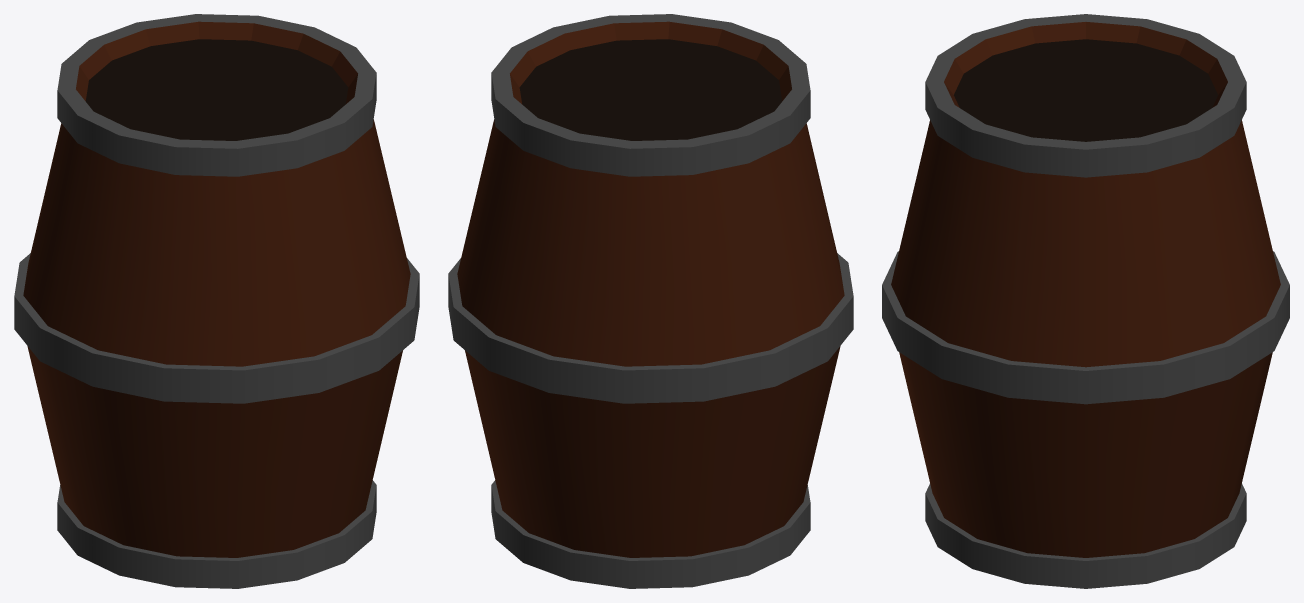
File: Barril2.fbx
3 views of the same model, side by side, from view 1: azimuth 30°, elevation 25°; view 2: azimuth 150°, elevation 25°; view 3: azimuth 270°, elevation 25° (orthographic).
Visible parts, largest first — view 1: pCylinder3 (×3); view 2: pCylinder3 (×3); view 3: pCylinder3 (×3).
Part boxes in pixels (x1,y1,x2,y2): pCylinder3 (×3): (14, 14, 419, 588); pCylinder3 (×3): (448, 14, 853, 588); pCylinder3 (×3): (882, 14, 1289, 588).
Bounding box in the file's own units: 2.09 × 2.49 × 2.09.
